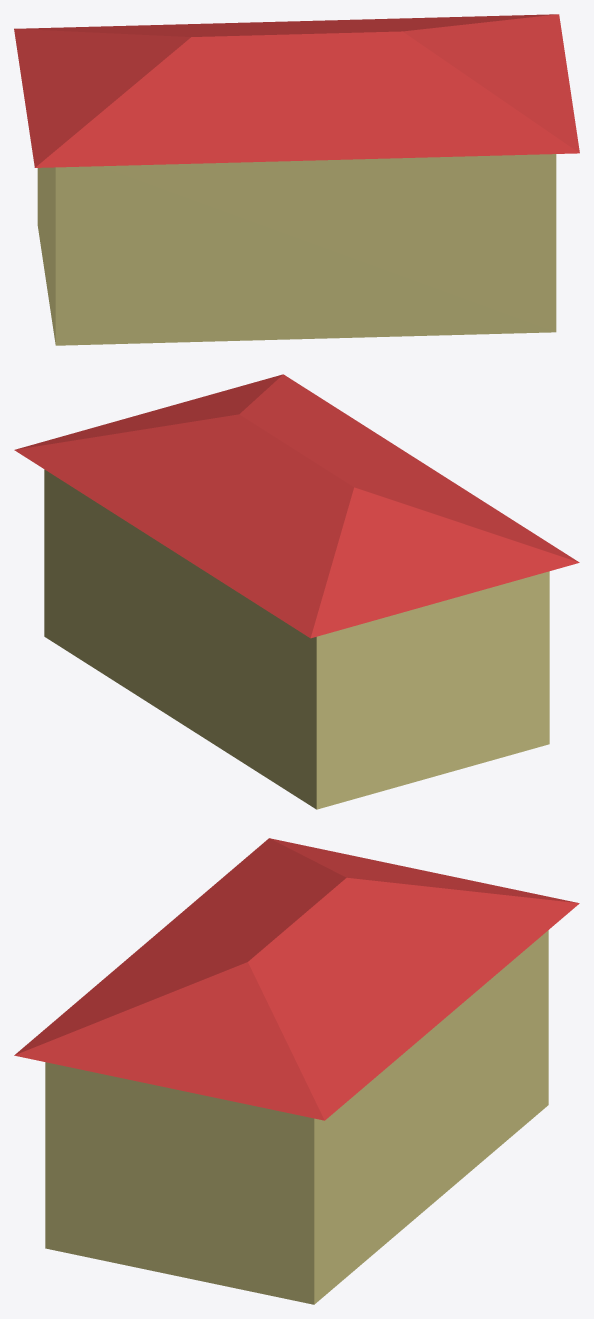
3 views of the same model, one above another, from view 1: azimuth 30°, elevation 25°; view 2: azimuth 150°, elevation 25°; view 3: azimuth 270°, elevation 25° (orthographic). The views are drawn at different scales.
Size of the model in its own units: 21.36 by 18.08 by 9.06.
